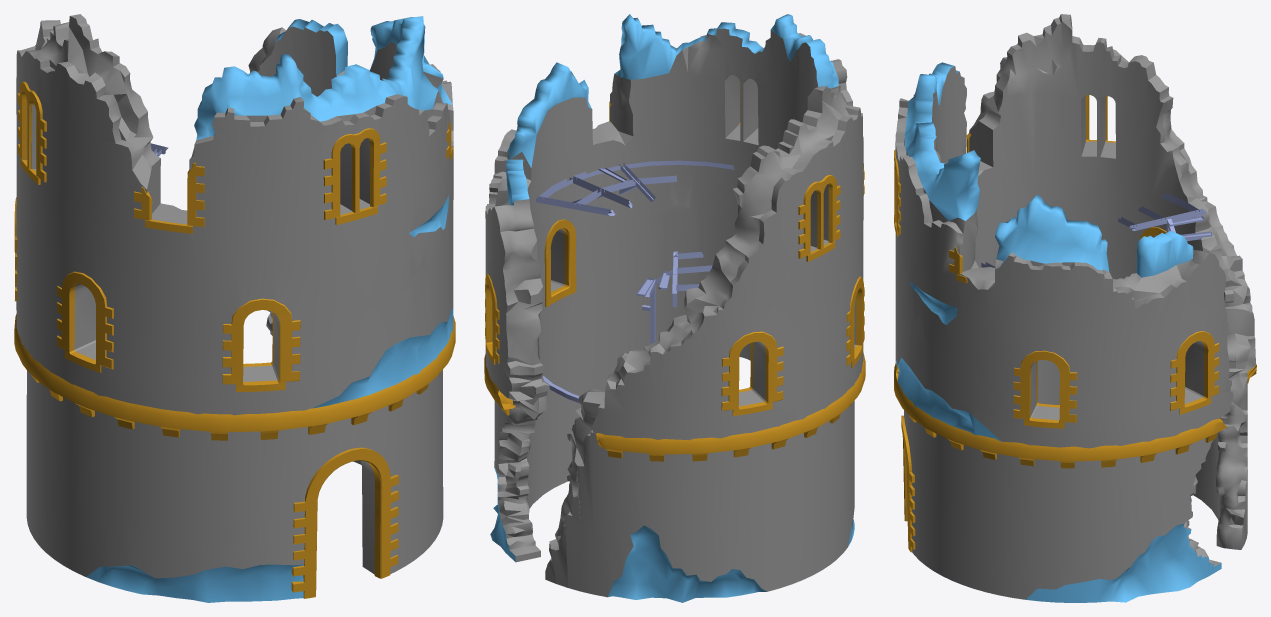
The model's file is SM_Castle_Tower_B_ALT.fbx.
3 renders of one model, left to right at view 1: azimuth 30°, elevation 25°; view 2: azimuth 150°, elevation 25°; view 3: azimuth 270°, elevation 25°, orthographic. The views are drawn at different scales.
Parts seen in each view (by area): view 1: SM_Castle_Tower_B_ALT_LOD0; view 2: SM_Castle_Tower_B_ALT_LOD0; view 3: SM_Castle_Tower_B_ALT_LOD0.
Part boxes in pixels (x1,y1,x2,y2): SM_Castle_Tower_B_ALT_LOD0: (14, 14, 455, 602); SM_Castle_Tower_B_ALT_LOD0: (484, 14, 865, 602); SM_Castle_Tower_B_ALT_LOD0: (894, 14, 1256, 602).
Size of what is drawn, in the model's own units: 907 by 1235 by 903.
